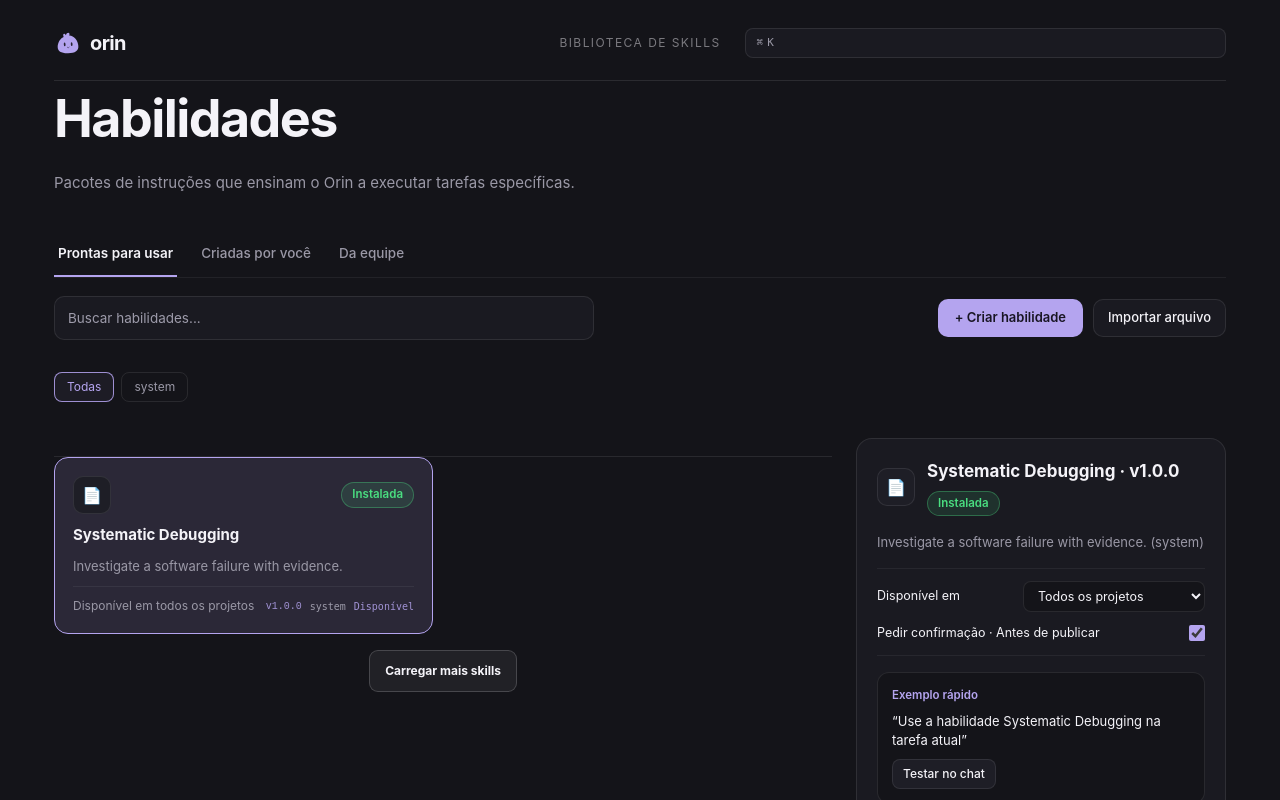
SkillsPage › clears a stale next-page error when a new base search replaces pagination state
Expected: the link "Systematic Debugging" is shown, top-left (73, 525), bottom-right (239, 544)
Step 1. Click the button "Carregar mais skills" → (443, 671), box top-left (369, 650), bottom-right (517, 692)
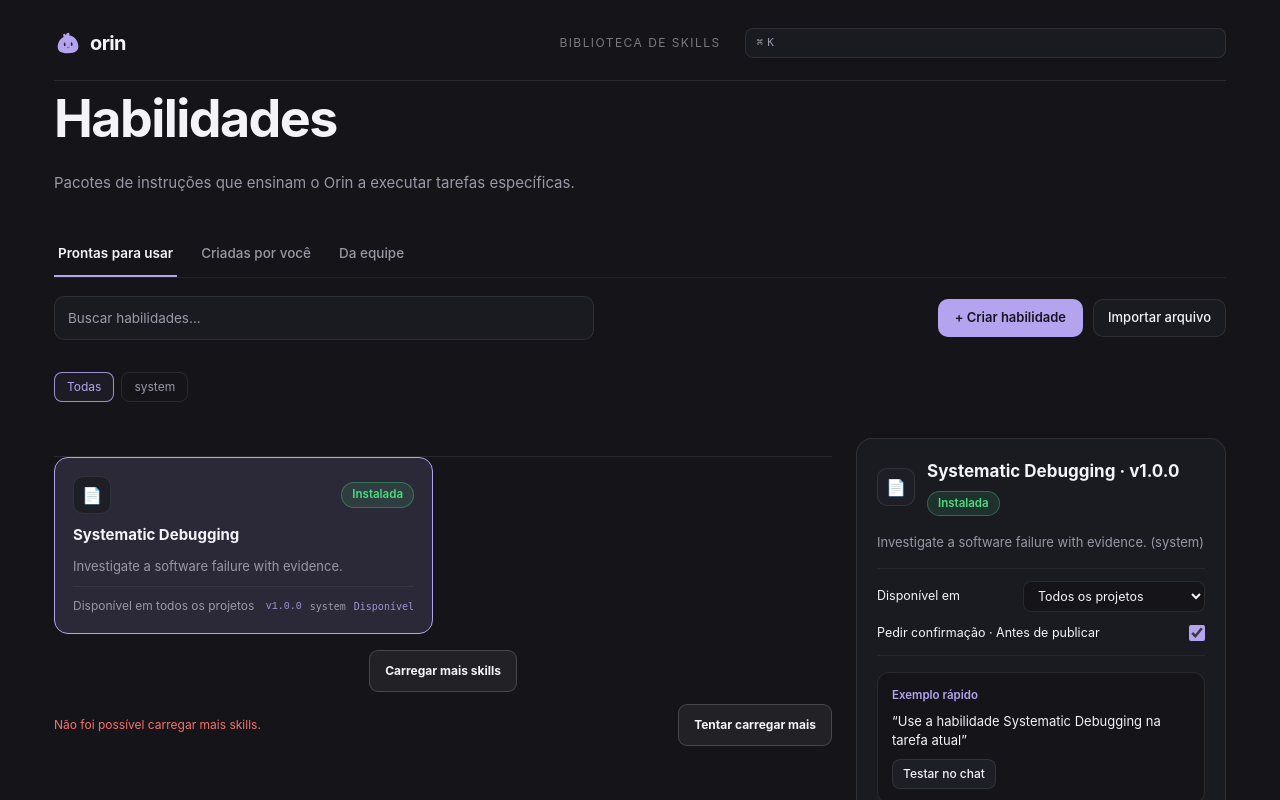
Expected: the message shows "Não foi possível carregar mais skills.", top-left (54, 717), bottom-right (261, 732)
Step 2. Type "debug" into the search field named "Buscar skills" → (324, 318), box top-left (54, 296), bottom-right (594, 340)
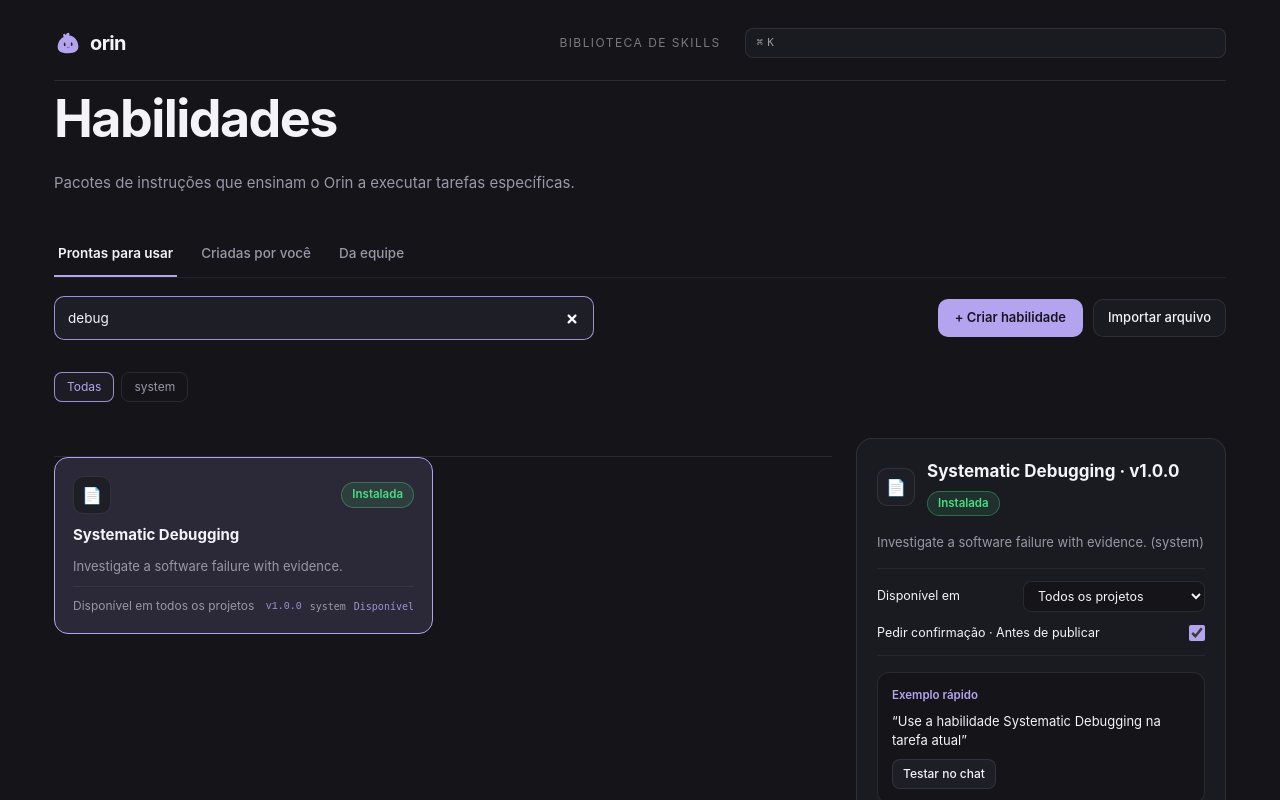
Expected: the text "Não foi possível carregar mais skills." is gone
Expected: the button "Carregar mais skills" is gone
